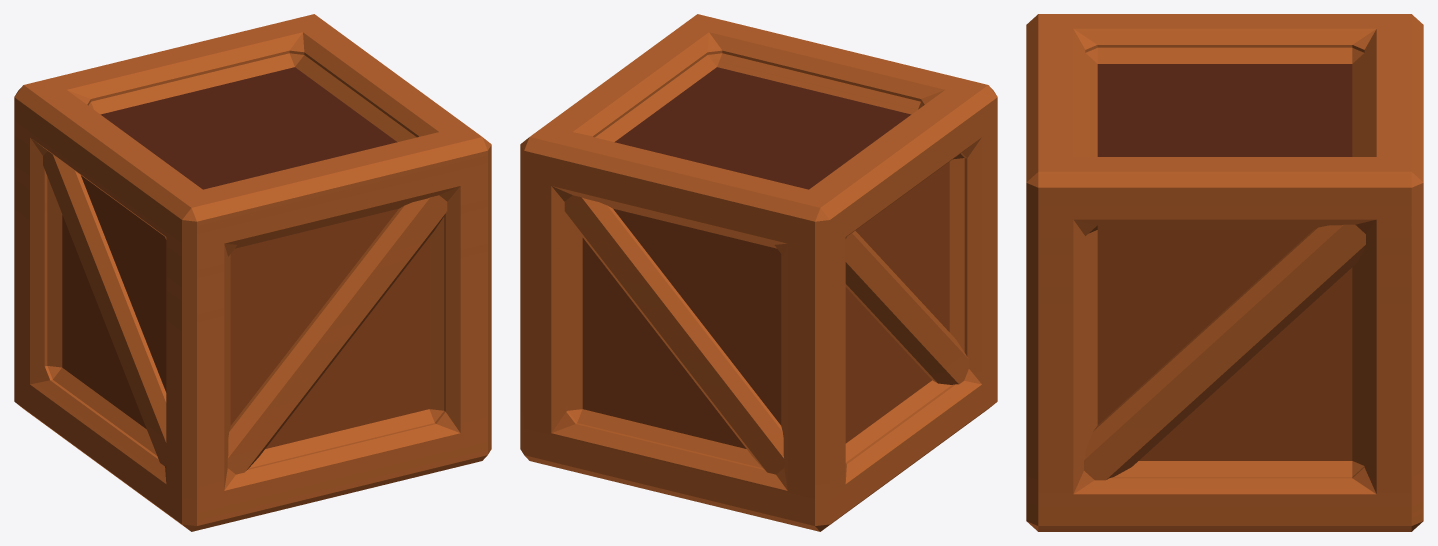
Rendered from Basket.fbx.
The picture shows the model from 3 angles, left to right: view 1: azimuth 30°, elevation 25°; view 2: azimuth 150°, elevation 25°; view 3: azimuth 270°, elevation 25°; orthographic projection. The views are drawn at different scales.
Parts seen in each view (by area): view 1: basket; view 2: basket; view 3: basket.
Boxes of the visible parts, x1,y1,x2,y2 form: basket: (14, 14, 491, 531); basket: (520, 14, 997, 531); basket: (1026, 14, 1423, 531).
Size of the model in its own units: 65.86 by 65.86 by 65.86.
1 material, 1 textured.
